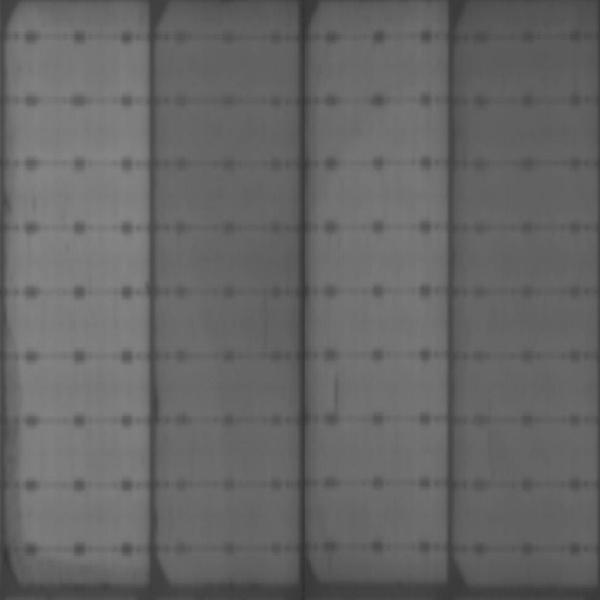scratch: (331, 369, 348, 416)
